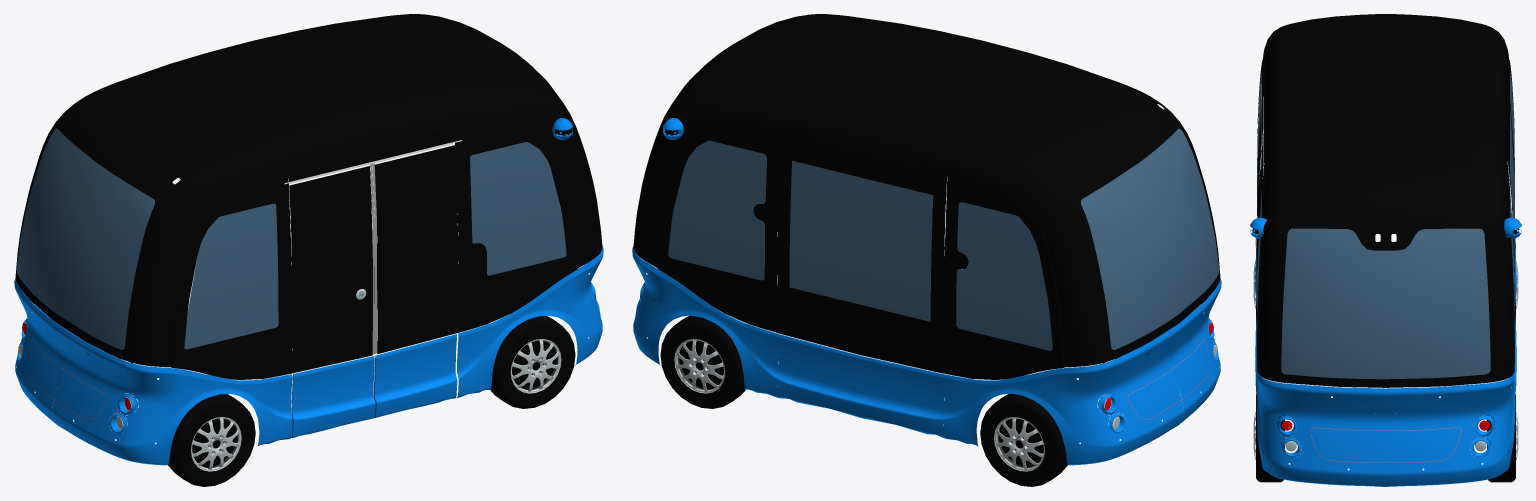
The picture shows the model from 3 angles, left to right: view 1: azimuth 30°, elevation 25°; view 2: azimuth 150°, elevation 25°; view 3: azimuth 270°, elevation 25°; orthographic projection. The views are drawn at different scales.
Visible parts, largest first — view 1: segment_80000000046D00AA, segment_80000000046D013A, segment_80000000046C6ECA, segment_800000000724BD46, segment_800000000724BC86, segment_80000000046D00DA, segment_80000000046AD9E2, segment_80000000046AD952, segment_80000000046C71FA, segment_8000000001F47DA6, segment_8000000007244F8A, segment_80000000072451CA (+5 smaller); view 2: segment_80000000046D00AA, segment_80000000046D013A, segment_80000000046C71FA, segment_80000000046CFFBA, segment_80000000046D02EA, segment_80000000046C6ECA, segment_800000000724519A, segment_800000000724504A, segment_80000000072452BA, segment_800000000724510A, segment_80000000046CD5FE, segment_80000000046CD5CE (+2 smaller); view 3: segment_80000000046D00AA, segment_80000000046D013A, segment_80000000046D00DA, segment_80000000046D02EA, segment_800000000724BC86, segment_800000000724BD46.
Boxes of the visible parts, bbox=[...] form: segment_80000000046D00AA: bbox=[15, 14, 602, 379]; segment_80000000046D013A: bbox=[16, 128, 566, 349]; segment_80000000046C6ECA: bbox=[52, 323, 292, 465]; segment_800000000724BD46: bbox=[374, 145, 458, 354]; segment_800000000724BC86: bbox=[289, 166, 372, 373]; segment_80000000046D00DA: bbox=[457, 245, 603, 397]; segment_80000000046AD9E2: bbox=[291, 356, 375, 438]; segment_80000000046AD952: bbox=[373, 334, 457, 417]; segment_80000000046C71FA: bbox=[14, 278, 64, 424]; segment_8000000001F47DA6: bbox=[500, 327, 572, 404]; segment_8000000007244F8A: bbox=[180, 405, 252, 482]; segment_80000000072451CA: bbox=[172, 397, 255, 486]; segment_80000000046D00AA: bbox=[633, 14, 1220, 379]; segment_80000000046D013A: bbox=[668, 128, 1219, 350]; segment_80000000046C71FA: bbox=[943, 323, 1183, 465]; segment_80000000046CFFBA: bbox=[777, 334, 944, 438]; segment_80000000046D02EA: bbox=[632, 245, 778, 397]; segment_80000000046C6ECA: bbox=[1171, 278, 1221, 424]; segment_800000000724519A: bbox=[663, 327, 735, 404]; segment_800000000724504A: bbox=[983, 405, 1055, 482]; segment_80000000072452BA: bbox=[980, 397, 1063, 486]; segment_800000000724510A: bbox=[660, 319, 743, 408]; segment_80000000046CD5FE: bbox=[994, 417, 1044, 471]; segment_80000000046CD5CE: bbox=[674, 338, 725, 393]; segment_80000000046D00AA: bbox=[1257, 14, 1514, 387]; segment_80000000046D013A: bbox=[1257, 70, 1514, 379]; segment_80000000046D00DA: bbox=[1256, 373, 1385, 486]; segment_80000000046D02EA: bbox=[1386, 373, 1515, 486]; segment_800000000724BC86: bbox=[1257, 93, 1263, 250]; segment_800000000724BD46: bbox=[1257, 134, 1263, 269].
Size of the model in its own units: 4334 by 2650 by 2048.
